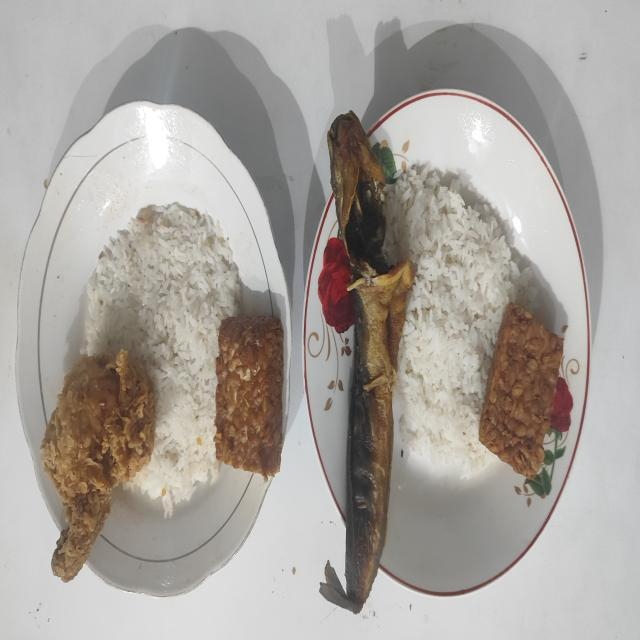nasi_putih: (84, 204, 240, 516), (383, 163, 535, 477)
tempe_goreng: (479, 302, 563, 479), (214, 316, 283, 479)
